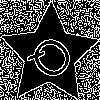Q: (24, 30, 84, 91)
